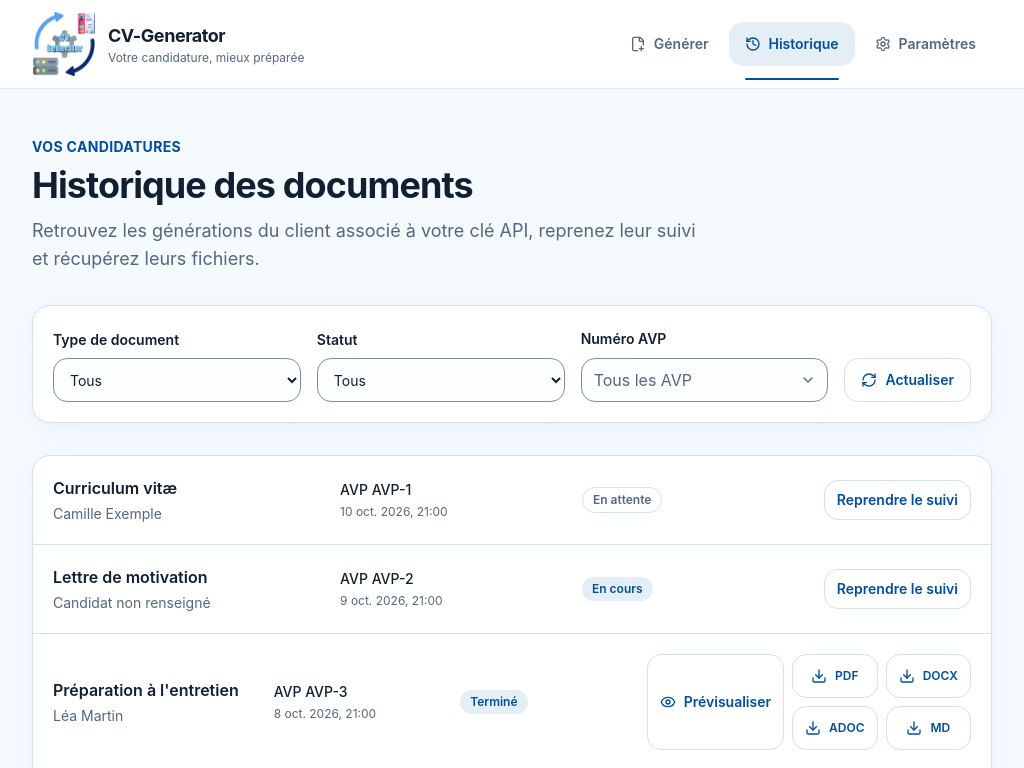
Test case: historique documentaire › propose tous les AVP triés sans doublon et filtre par préfixe
This screenshot has width=1024, height=768.
Click the dropdown labelled "Numéro AVP" at (704, 380), box [581, 358, 828, 402]
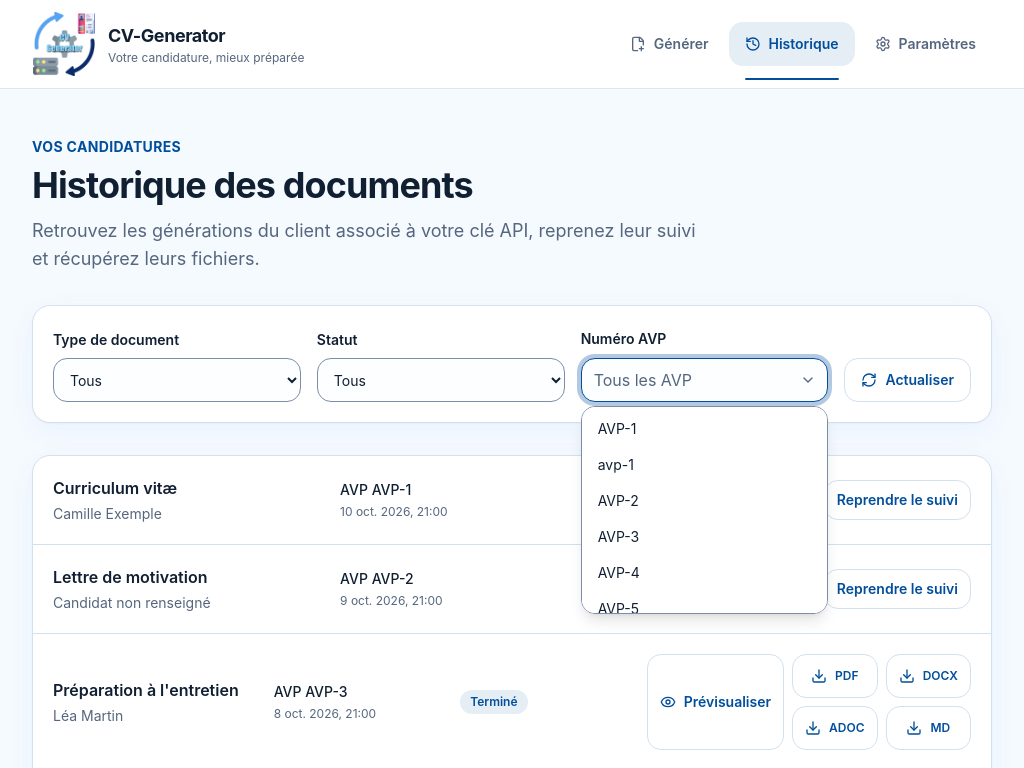
Type "  avp-1  " into the dropdown labelled "Numéro AVP" at (704, 380), box [581, 358, 828, 402]
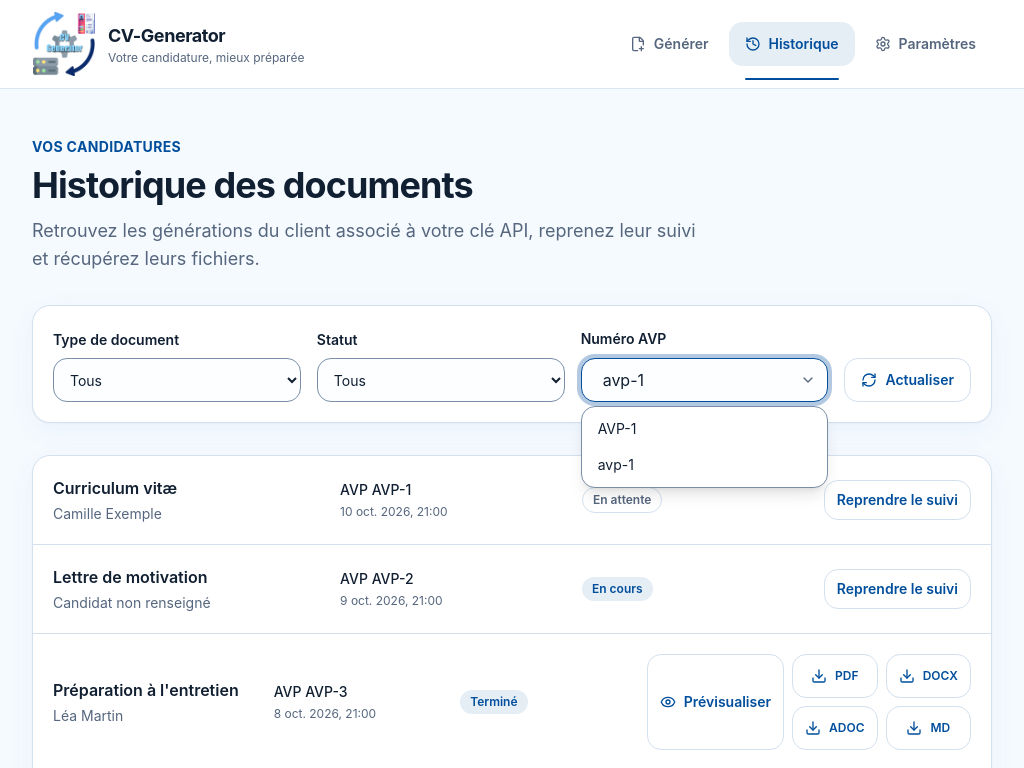
Check: the number of options is 2, box [598, 420, 636, 437]; [598, 456, 634, 473]
